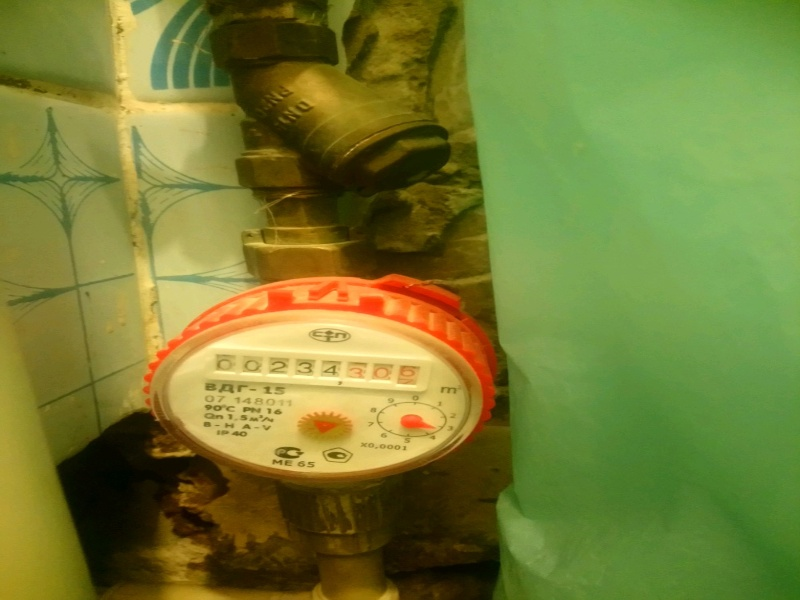meter: (209, 349, 428, 385)
